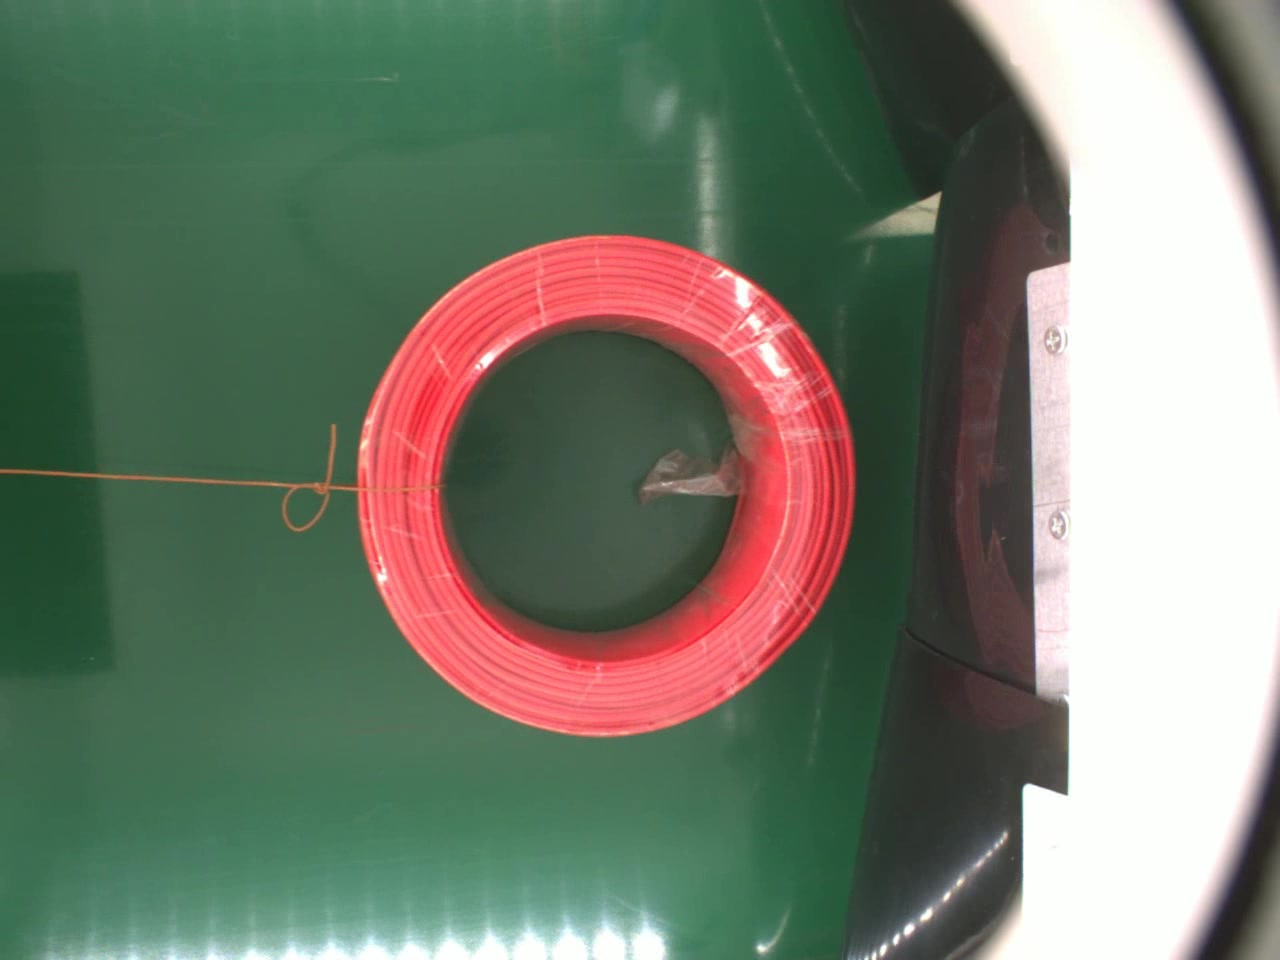red: (353, 231, 859, 745)
